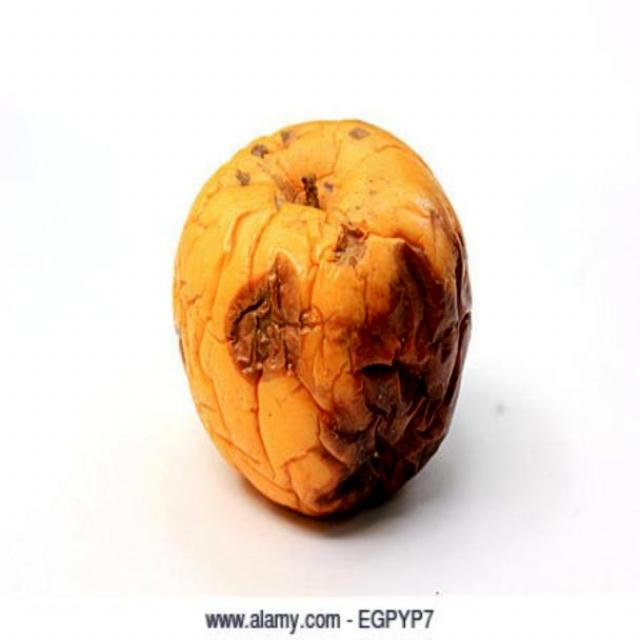ROT: (168, 103, 480, 533)
